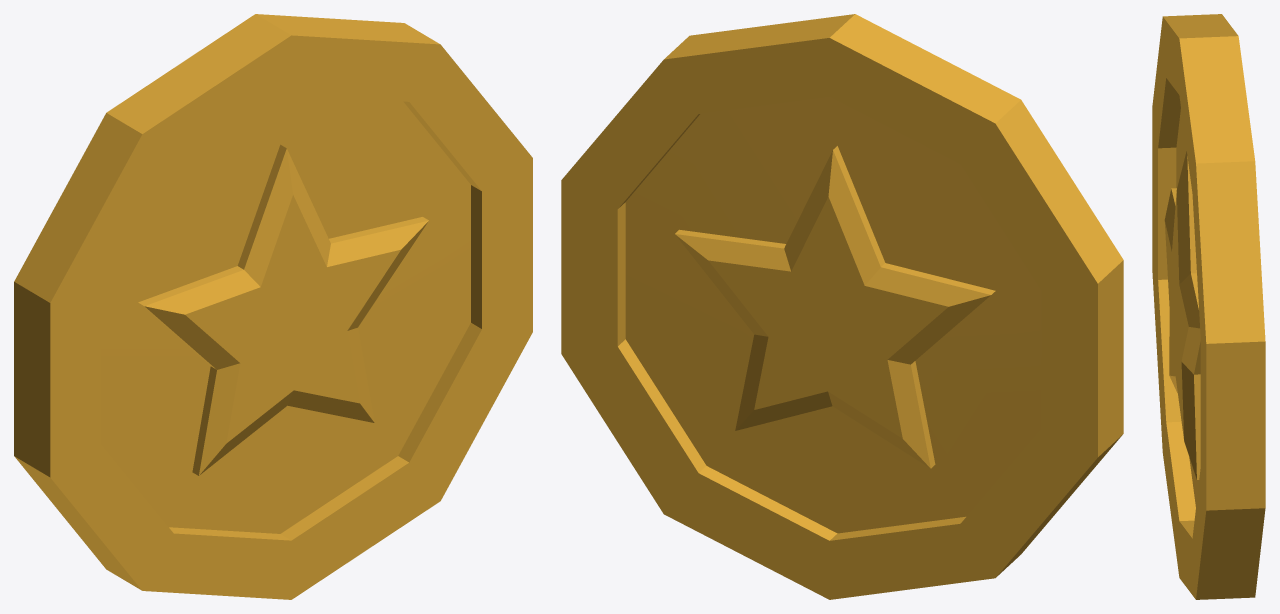
The model's file is coin.glb.
The picture shows the model from 3 angles, left to right: view 1: azimuth 30°, elevation 25°; view 2: azimuth 150°, elevation 25°; view 3: azimuth 270°, elevation 25°; orthographic projection. The views are drawn at different scales.
Visible parts, largest first — view 1: Circle.001; view 2: Circle.001; view 3: Circle.001.
Part boxes in pixels (box(x1,y1,x2,y2)): Circle.001: box(14, 14, 532, 599); Circle.001: box(561, 14, 1123, 599); Circle.001: box(1152, 14, 1265, 599).
Size of the model in its own units: 0.9563 by 1 by 0.19.
